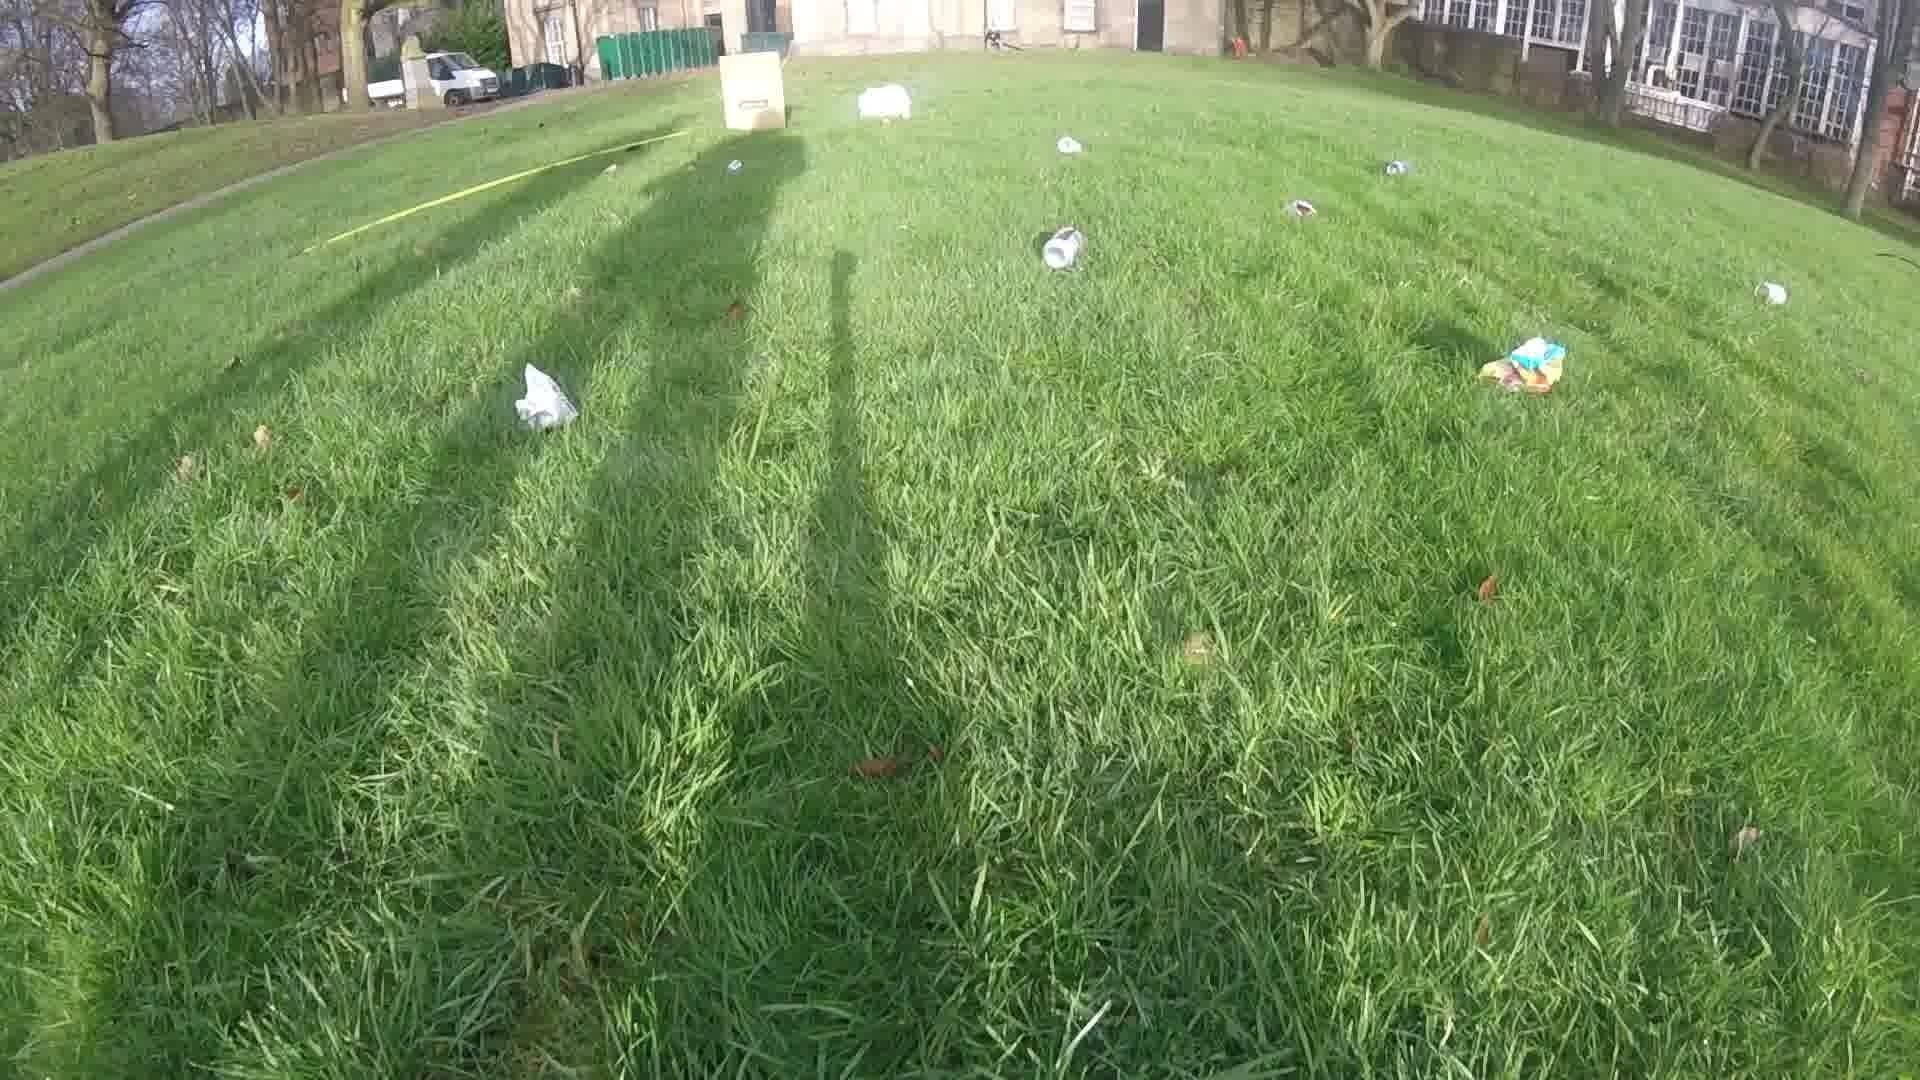litter: (717, 51, 790, 132), (1480, 336, 1567, 396), (513, 361, 578, 431), (855, 84, 913, 119), (1043, 227, 1084, 269), (1759, 281, 1789, 305), (1287, 200, 1317, 220), (1379, 157, 1406, 177), (1058, 138, 1083, 156), (720, 157, 742, 175)
